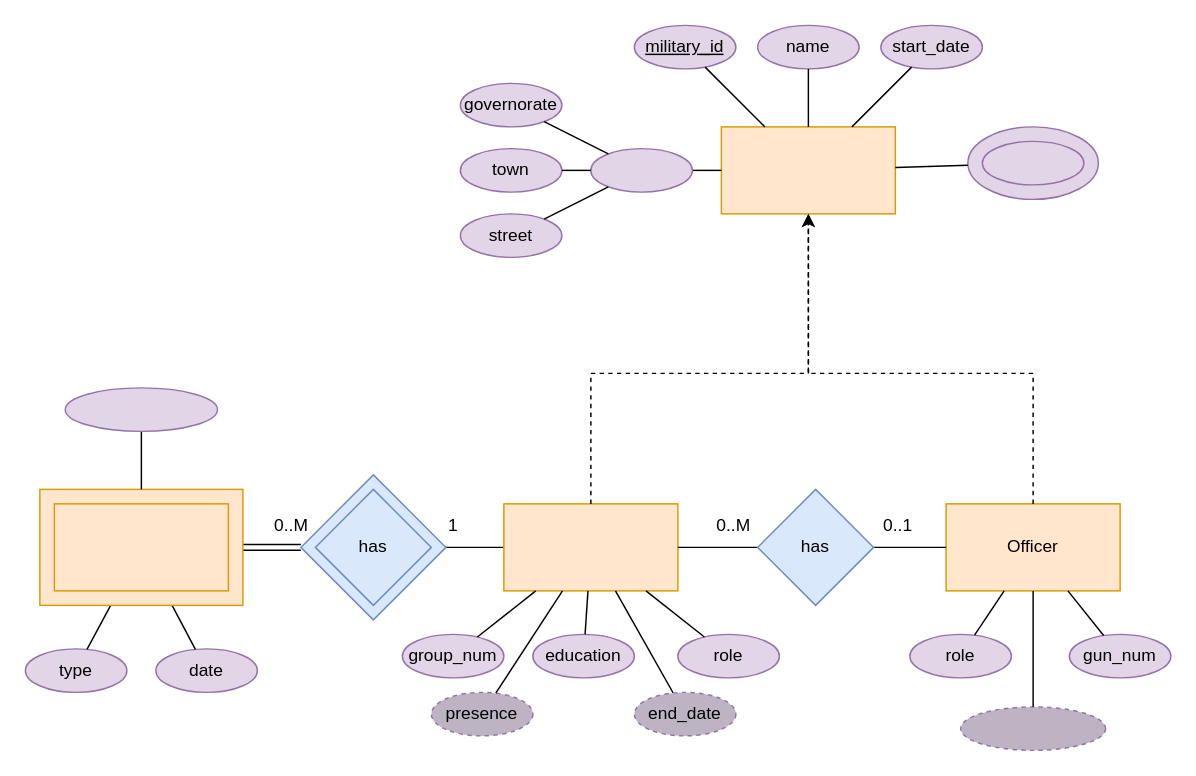
Some shapes in this 1196 by 776 pixel diagram are drawn without their labels. Each missing label, with the box of its shape:
address: (589, 147, 692, 192)
Injury_Record: (53, 502, 228, 591)
injury_record_id: (64, 386, 218, 431)
MilitaryPerson: (720, 125, 895, 214)
Soldier: (502, 502, 678, 591)
telephone: (981, 140, 1084, 185)
years_of_service: (959, 705, 1106, 750)
